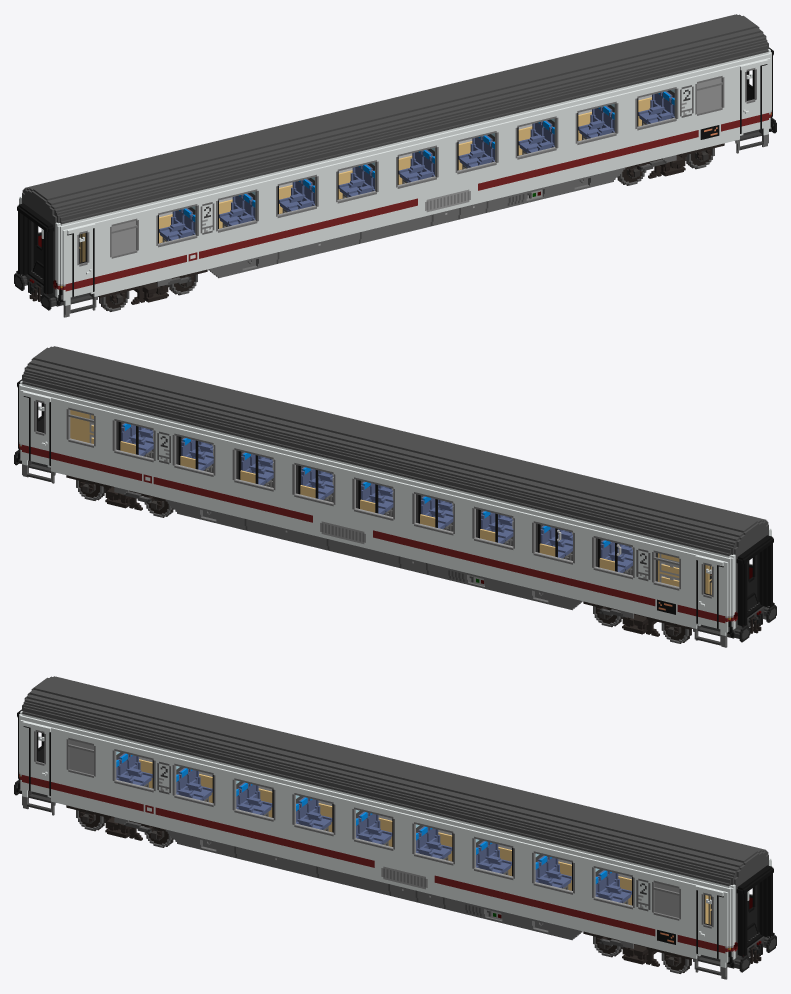
The picture shows the model from 3 angles, top to bottom: view 1: azimuth 30°, elevation 25°; view 2: azimuth 150°, elevation 25°; view 3: azimuth 330°, elevation 25°; orthographic projection.
Parts seen in each view (by area): view 1: FRAME, BOGEY_FRONT, BOGEY_REAR; view 2: FRAME, BOGEY_FRONT, BOGEY_REAR; view 3: FRAME, BOGEY_REAR, BOGEY_FRONT.
Boxes of the visible parts, bbox=[...] form: FRAME: bbox=[14, 14, 776, 317]; BOGEY_FRONT: bbox=[98, 269, 207, 304]; BOGEY_REAR: bbox=[623, 143, 724, 178]; FRAME: bbox=[14, 346, 776, 647]; BOGEY_FRONT: bbox=[583, 601, 692, 636]; BOGEY_REAR: bbox=[66, 475, 167, 510]; FRAME: bbox=[14, 676, 776, 979]; BOGEY_REAR: bbox=[583, 931, 692, 966]; BOGEY_FRONT: bbox=[66, 805, 167, 840].
Bounding box in the file's own units: 26.56 × 4.31 × 2.88.
Materials: 1 (1 with a texture image).
